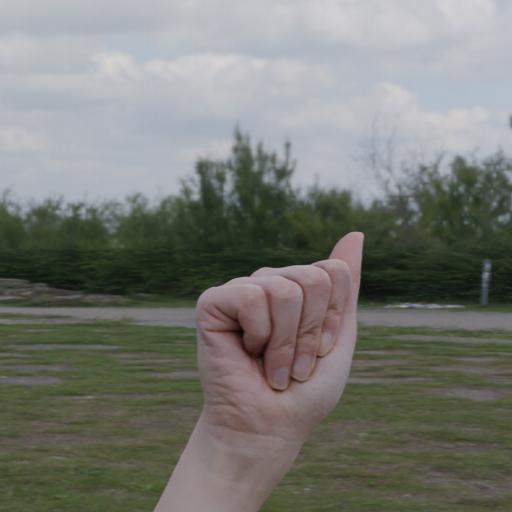A: (176, 220, 376, 434)
